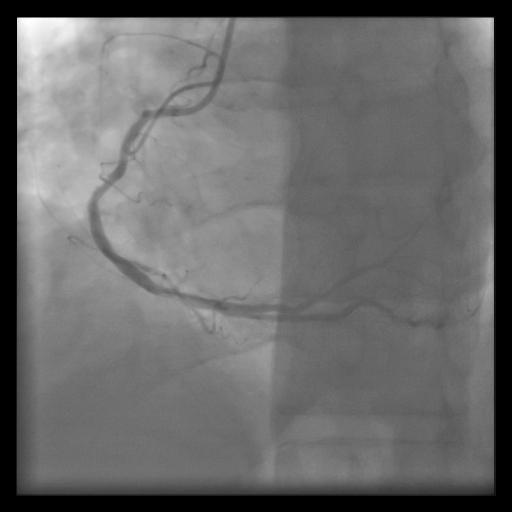Stenosis: (165, 280, 220, 316)
